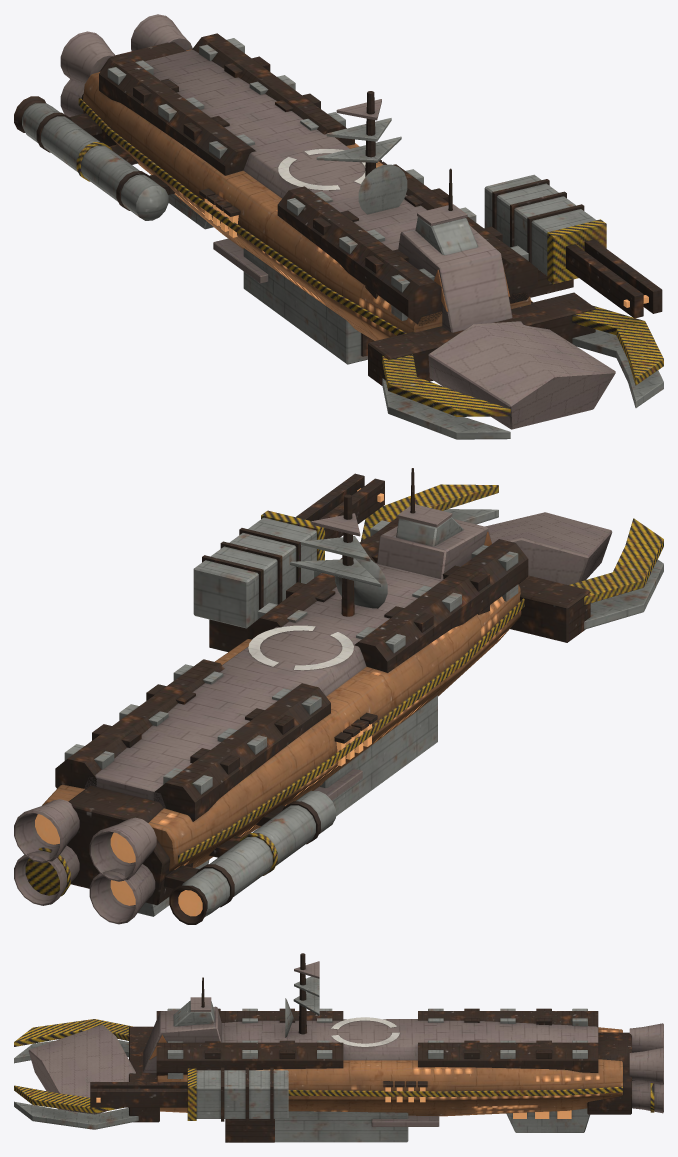
Rendered from dustborn_carrier.glb.
3 renders of one model, top to bottom at view 1: azimuth 30°, elevation 25°; view 2: azimuth 150°, elevation 25°; view 3: azimuth 270°, elevation 25°, orthographic. The views are drawn at different scales.
Visible parts, largest first — view 1: HULL, SYS_DRIVE, SYS_WPN1, SYS_BUS_F, SYS_BUS_A, SYS_BRIDGE, SYS_HANGAR, SYS_SENSORS, SYS_REACTOR; view 2: HULL, SYS_DRIVE, SYS_BUS_A, SYS_WPN1, SYS_BUS_F, SYS_BRIDGE, SYS_SENSORS, SYS_HANGAR, SYS_REACTOR; view 3: HULL, SYS_WPN1, SYS_BUS_A, SYS_BUS_F, SYS_DRIVE, SYS_HANGAR, SYS_BRIDGE, SYS_JUMP, SYS_SENSORS, SYS_REACTOR.
Part boxes in pixels (x1,y1,x2,y2): HULL: (78,49,663,439); SYS_DRIVE: (14,14,192,220); SYS_WPN1: (484,174,662,318); SYS_BUS_F: (277,164,537,325); SYS_BUS_A: (99,33,354,175); SYS_BRIDGE: (398,168,512,332); SYS_HANGAR: (243,248,374,364); SYS_SENSORS: (316,91,407,214); SYS_REACTOR: (199,159,386,283); HULL: (42,484,663,871); SYS_DRIVE: (14,785,335,924); SYS_BUS_A: (55,659,330,821); SYS_WPN1: (193,473,384,651); SYS_BUS_F: (247,517,528,672); SYS_BRIDGE: (377,468,491,579); SYS_SENSORS: (290,494,387,616); SYS_HANGAR: (319,695,437,816); SYS_REACTOR: (314,712,377,800); HULL: (14,1017,622,1129); SYS_WPN1: (90,1067,288,1142); SYS_BUS_A: (418,1008,598,1072); SYS_BUS_F: (156,1008,343,1078); SYS_DRIVE: (587,1023,663,1114); SYS_HANGAR: (275,1111,408,1142); SYS_BRIDGE: (143,977,221,1072); SYS_JUMP: (506,1108,589,1132); SYS_SENSORS: (285,953,319,1037); SYS_REACTOR: (371,1081,439,1126).
Size of the model in its own units: 21.24 by 17.31 by 58.89.
1 material, 1 textured.
